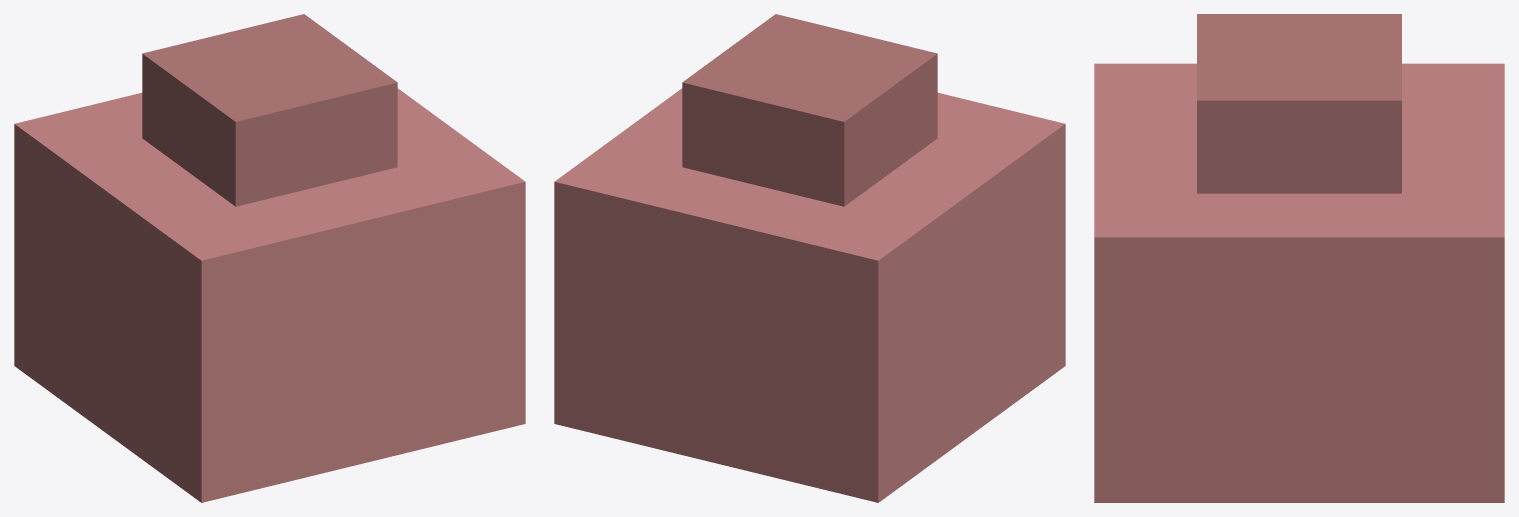
Rendered from furnace.glb.
The picture shows the model from 3 angles, left to right: view 1: azimuth 30°, elevation 25°; view 2: azimuth 150°, elevation 25°; view 3: azimuth 270°, elevation 25°; orthographic projection. The views are drawn at different scales.
Size of the model in its own units: 28 by 27 by 28.
